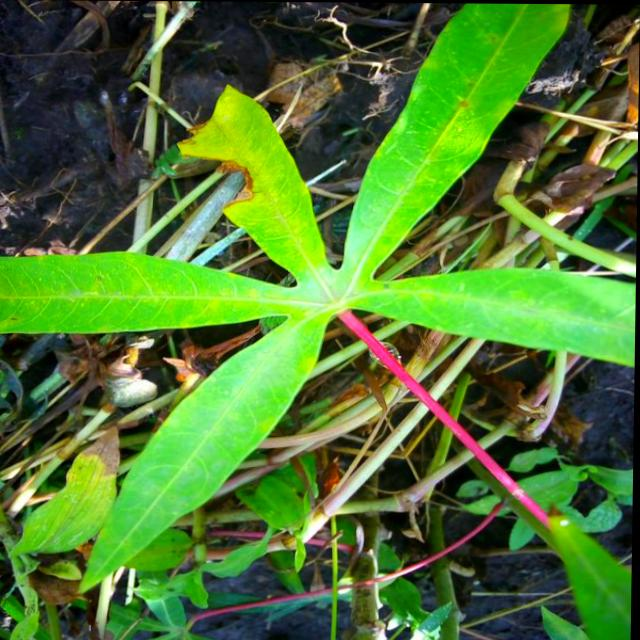Mosaico: (184, 99, 381, 382)
